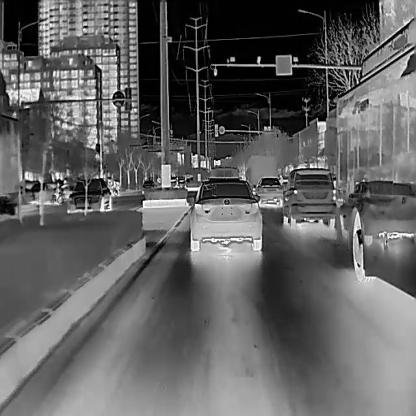bus: (324, 14, 414, 300)
car: (185, 178, 263, 251), (281, 166, 335, 226), (66, 176, 112, 213), (252, 176, 282, 204), (7, 183, 34, 205), (52, 181, 76, 204), (31, 181, 55, 203), (140, 179, 155, 193), (170, 175, 178, 187), (178, 175, 185, 187)
truck: (248, 154, 276, 186)
